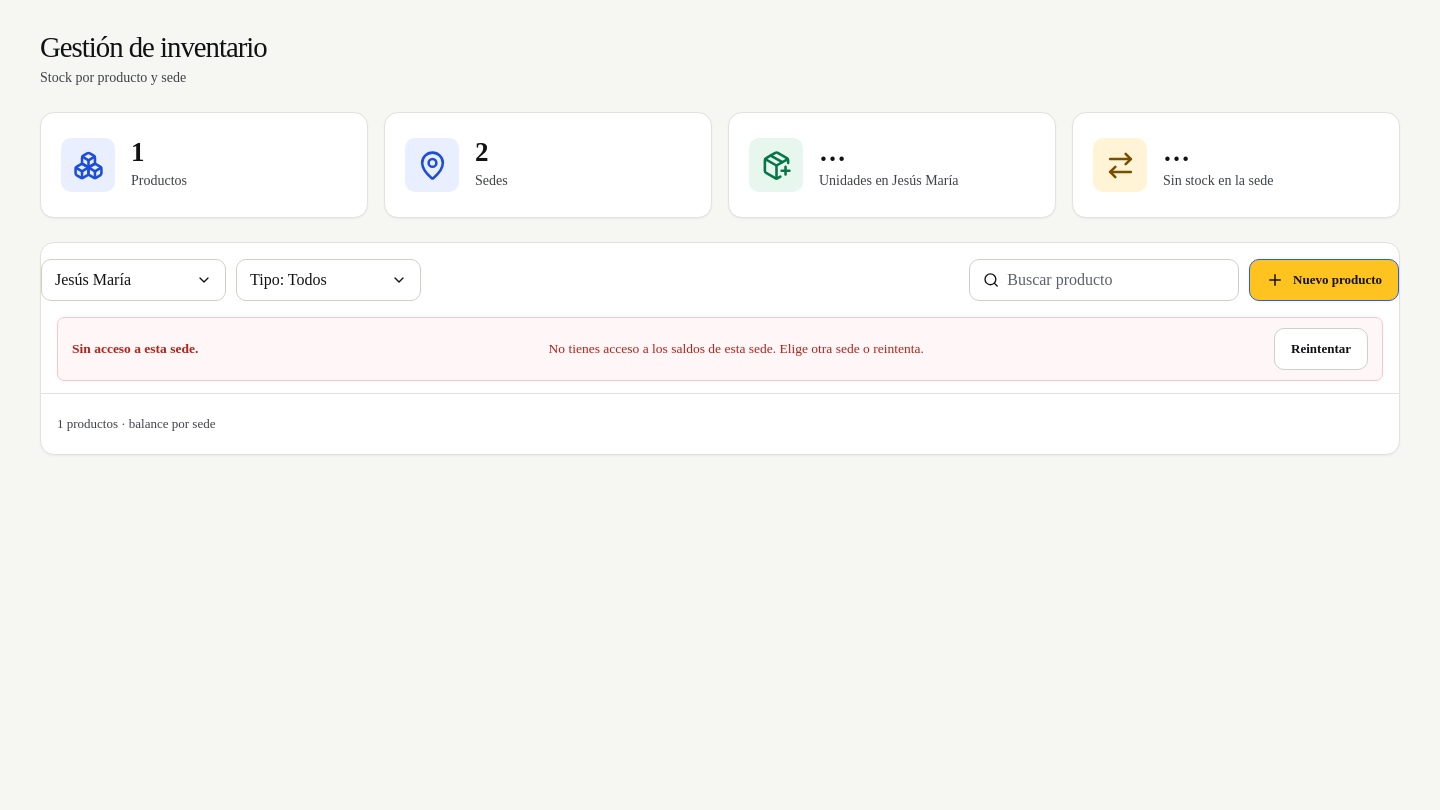
Inventario en modo real › recupera el flujo completo: catálogo legible, Jesús María 403, elegir Lince y abrir conteo
Select "Lince" in the dropdown named "Sede": x=122, y=280 [55, 268, 188, 292]
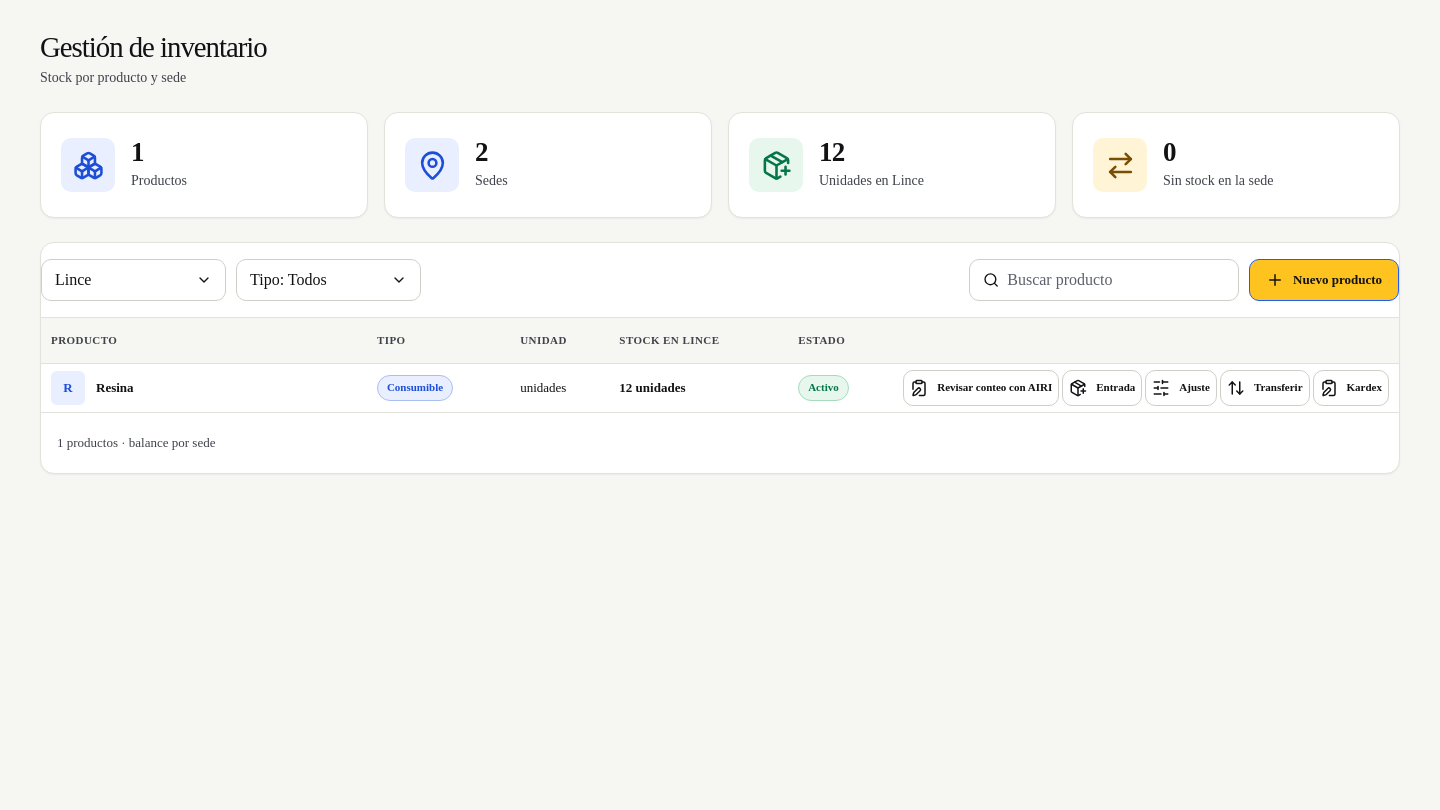
expect no messages are shown: met
Click the button "Revisar conteo con AIRI": x=981, y=388 [903, 370, 1059, 406]
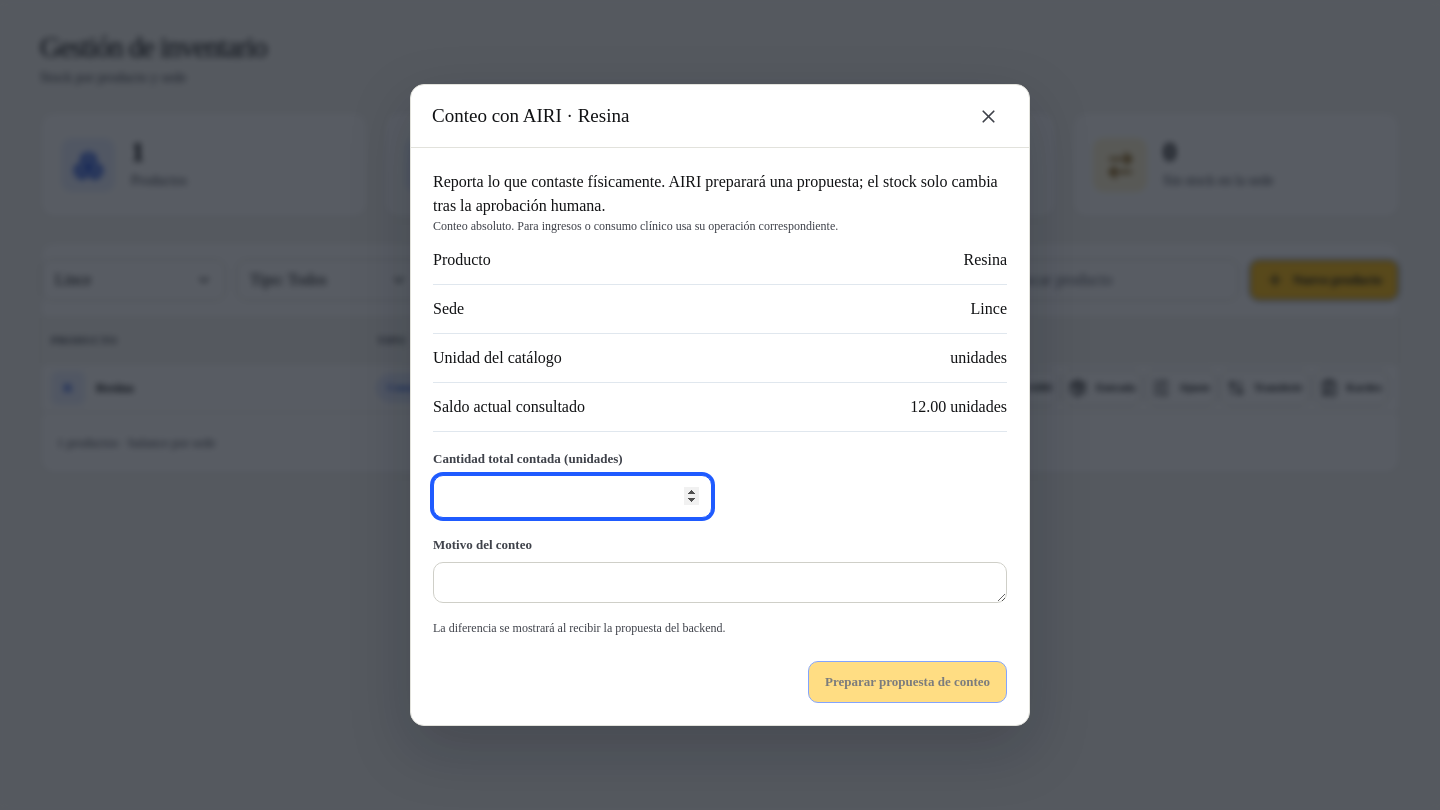
In the number field labelled "Cantidad total contada (unidades)": x=572, y=496 [433, 475, 712, 518], type "10"
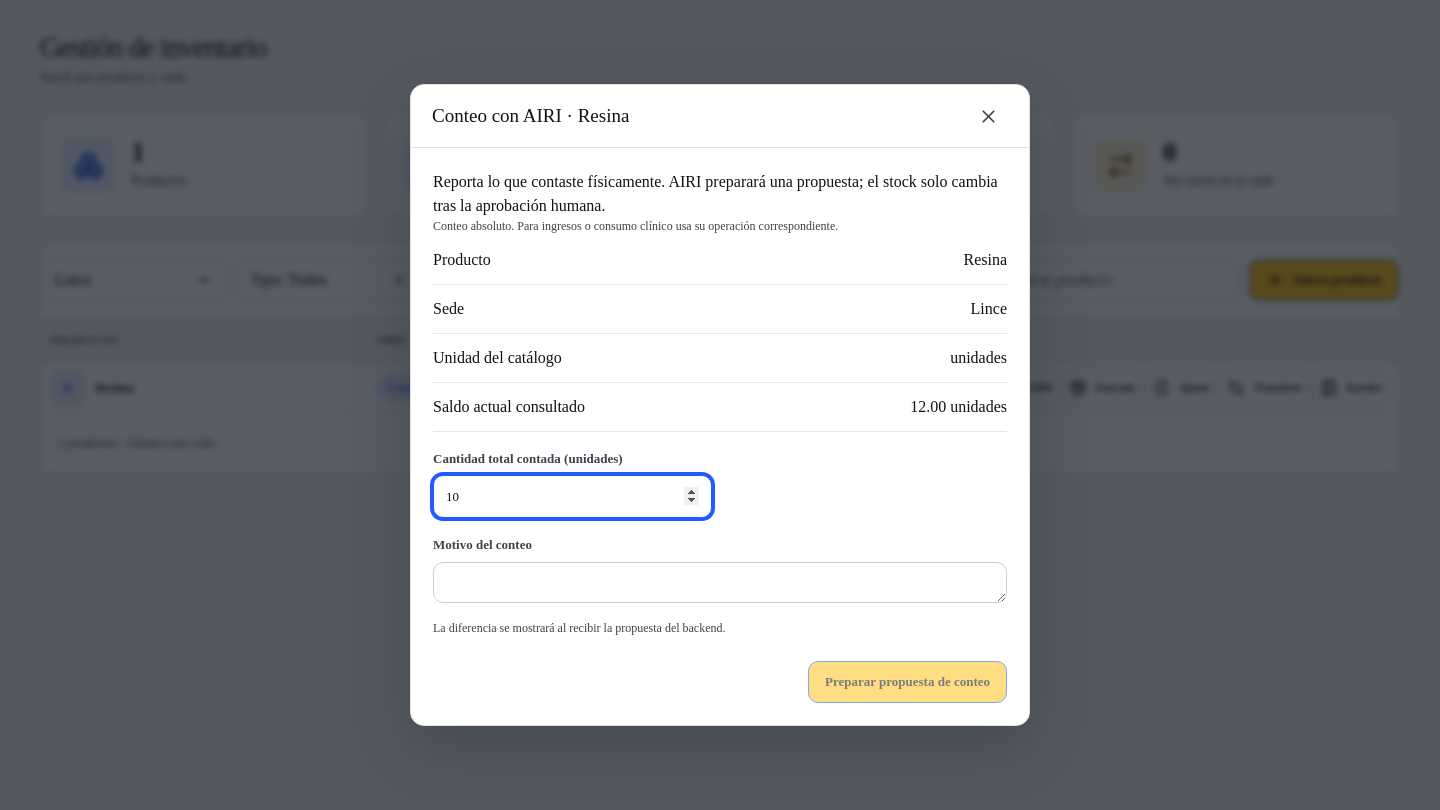
In the text box labelled "Motivo del conteo": x=720, y=582 [433, 562, 1007, 602], type "Conteo de cierre en Lince"
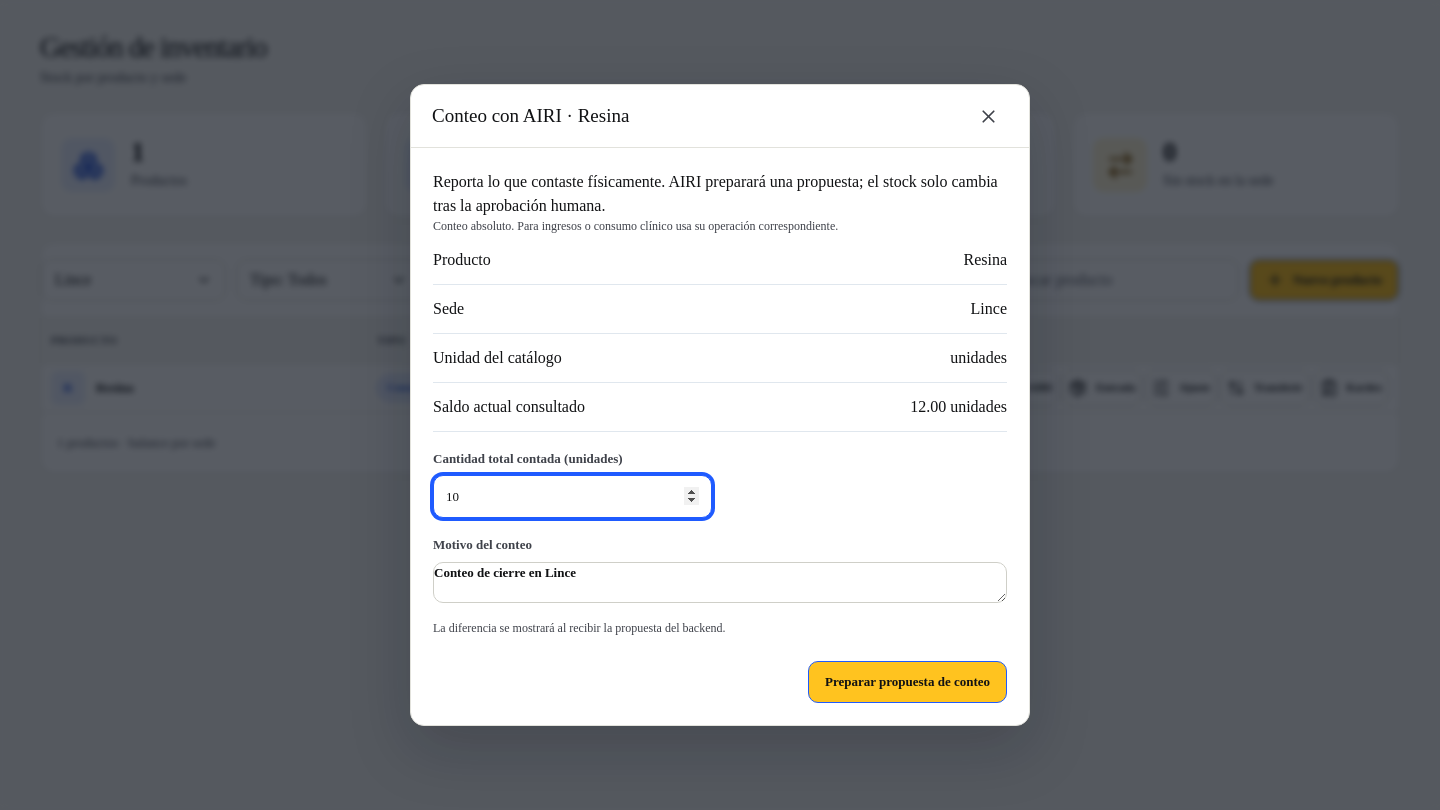
expect the button "Preparar propuesta de conteo" is enabled: met, box [808, 661, 1007, 703]
